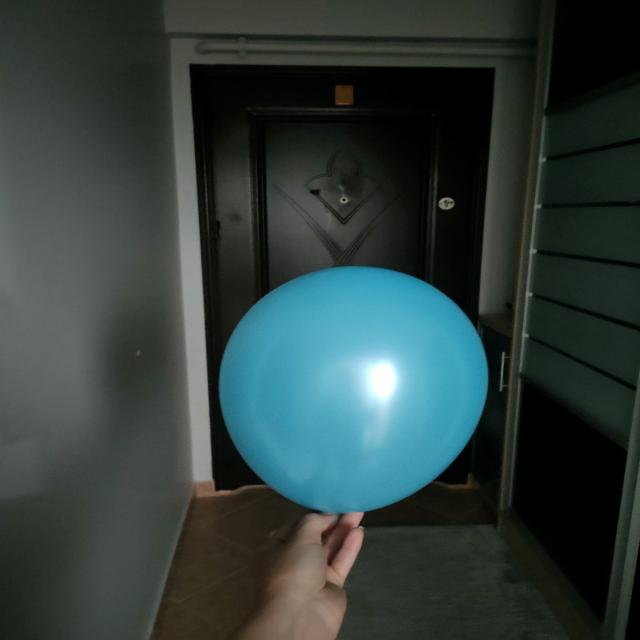blue: (220, 267, 493, 515)
